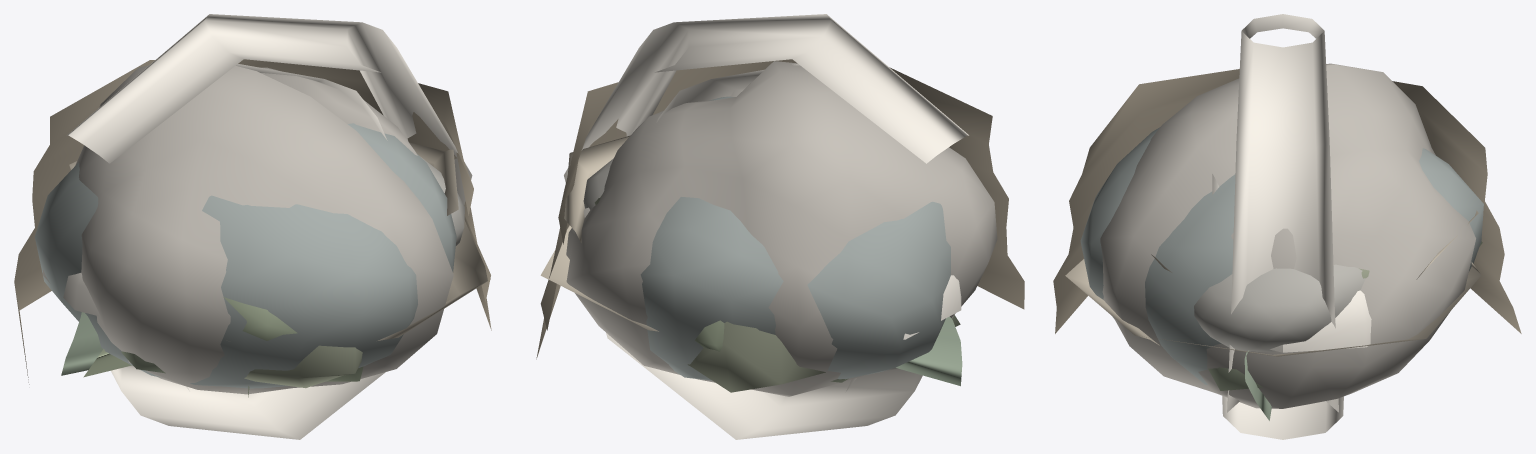
The model's file is coastal-props.glb.
The picture shows the model from 3 angles, left to right: view 1: azimuth 30°, elevation 25°; view 2: azimuth 150°, elevation 25°; view 3: azimuth 270°, elevation 25°; orthographic projection. The views are drawn at different scales.
Visible parts, largest first — view 1: prop_rock_dry, prop_rock_wet, prop_spiral, prop_trunk, prop_driftwood, prop_scrub, prop_crown, prop_kelp, prop_shell, prop_rock_shelf, prop_reed; view 2: prop_rock_dry, prop_rock_wet, prop_spiral, prop_trunk, prop_scrub, prop_driftwood, prop_kelp, prop_shell, prop_rock_shelf, prop_crown; view 3: prop_rock_dry, prop_spiral, prop_rock_wet, prop_trunk, prop_rock_shelf, prop_shell, prop_driftwood, prop_canopy, prop_kelp.
Part boxes in pixels (left/top/right/bottom): prop_rock_dry: left=75, top=65, right=453, bottom=394; prop_rock_wet: left=35, top=123, right=456, bottom=388; prop_spiral: left=67, top=14, right=472, bottom=439; prop_trunk: left=14, top=59, right=491, bottom=384; prop_driftwood: left=69, top=142, right=490, bottom=340; prop_scrub: left=244, top=345, right=362, bottom=388; prop_crown: left=223, top=297, right=363, bottom=381; prop_kelp: left=61, top=312, right=102, bottom=375; prop_shell: left=42, top=270, right=100, bottom=316; prop_rock_shelf: left=418, top=155, right=464, bottom=245; prop_reed: left=83, top=349, right=249, bottom=397; prop_rock_dry: left=566, top=61, right=997, bottom=396; prop_rock_wet: left=640, top=96, right=950, bottom=380; prop_spiral: left=564, top=14, right=968, bottom=439; prop_trunk: left=536, top=59, right=1024, bottom=359; prop_scrub: left=594, top=195, right=825, bottom=392; prop_driftwood: left=540, top=135, right=658, bottom=331; prop_kelp: left=896, top=316, right=962, bottom=386; prop_shell: left=566, top=207, right=961, bottom=339; prop_rock_shelf: left=583, top=158, right=613, bottom=209; prop_crown: left=695, top=320, right=724, bottom=351; prop_rock_dry: left=1100, top=63, right=1475, bottom=408; prop_spiral: left=1212, top=14, right=1343, bottom=439; prop_rock_wet: left=1080, top=127, right=1483, bottom=385; prop_trunk: left=1053, top=69, right=1521, bottom=333; prop_rock_shelf: left=1194, top=264, right=1365, bottom=351; prop_shell: left=1270, top=290, right=1371, bottom=352; prop_driftwood: left=1065, top=155, right=1481, bottom=356; prop_canopy: left=1208, top=367, right=1262, bottom=390; prop_kelp: left=1244, top=350, right=1271, bottom=420.
Size of the model in its own units: 2.39 by 2.15 by 2.27.
